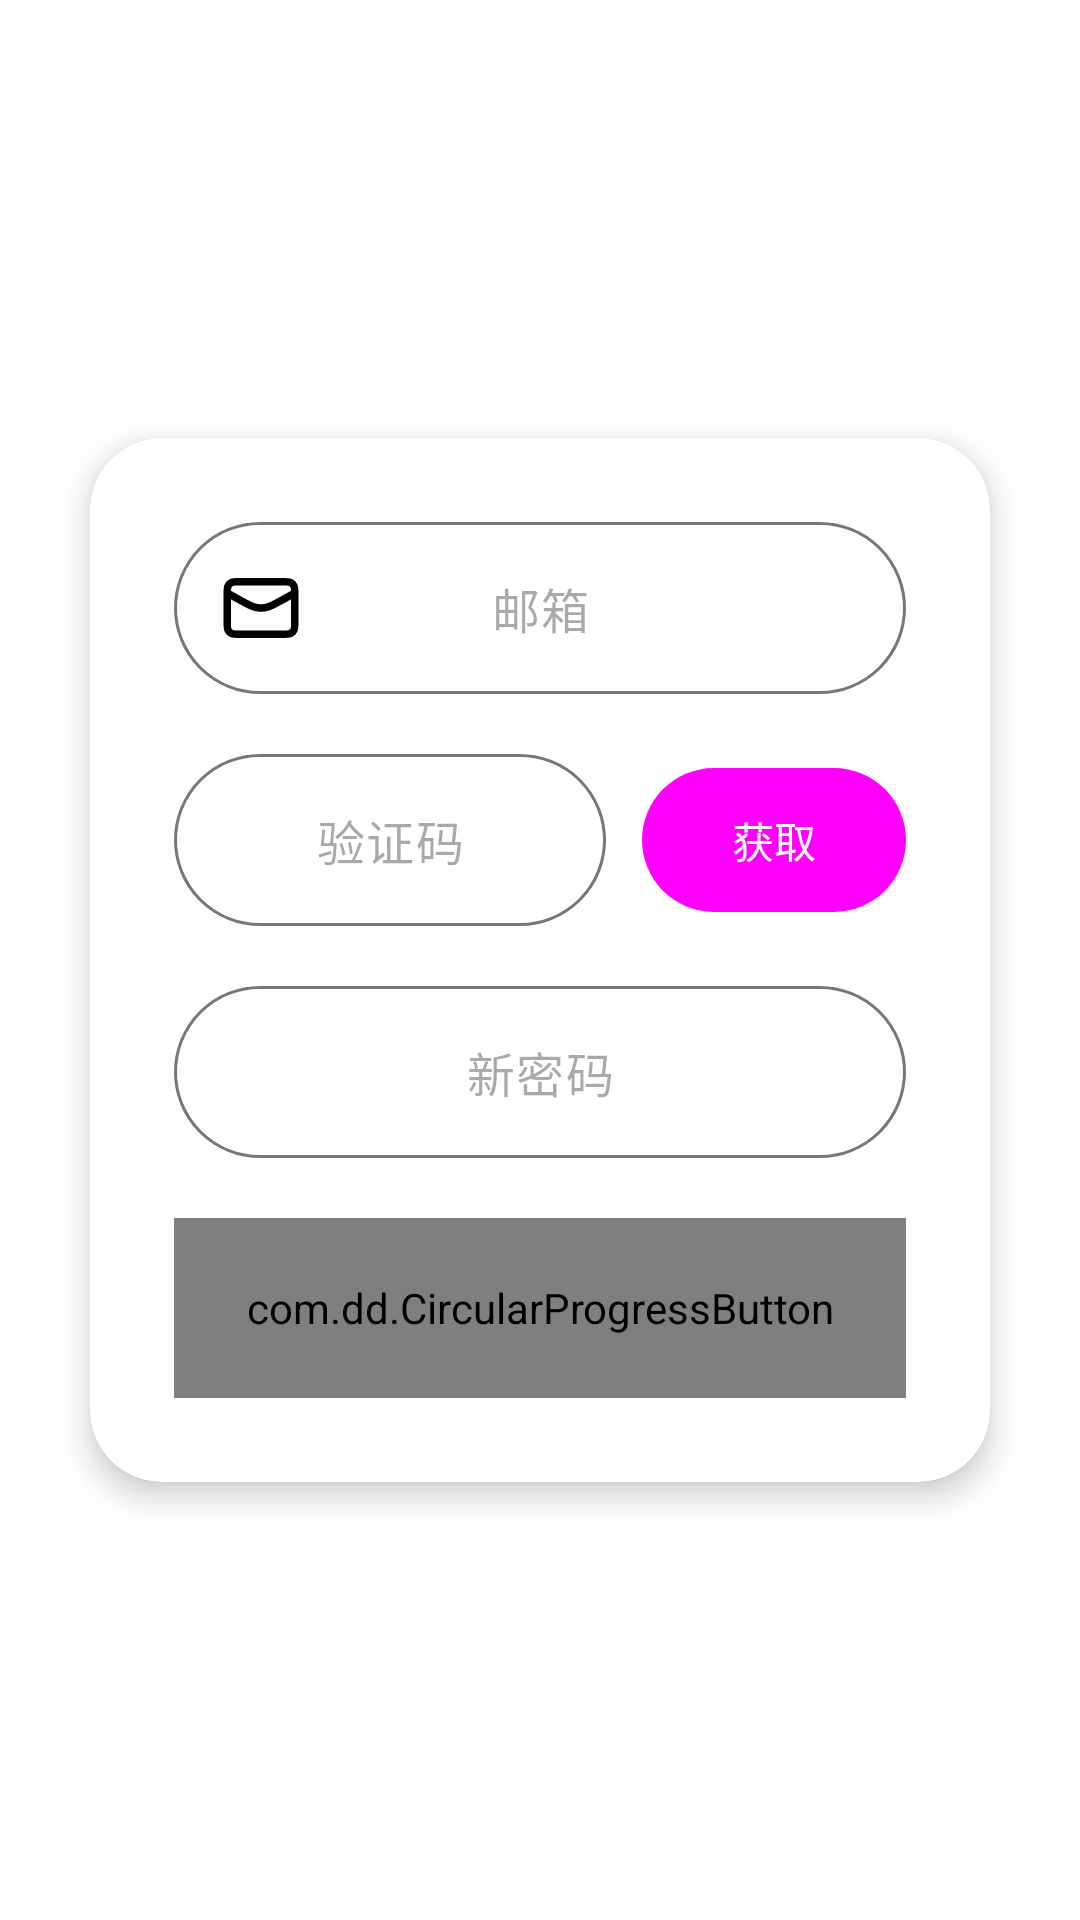

Screen size 1080px x 1920px. Icon name, then its box in pixels as (x1, y1, x2, y2):
mail: (223, 578, 299, 638)
